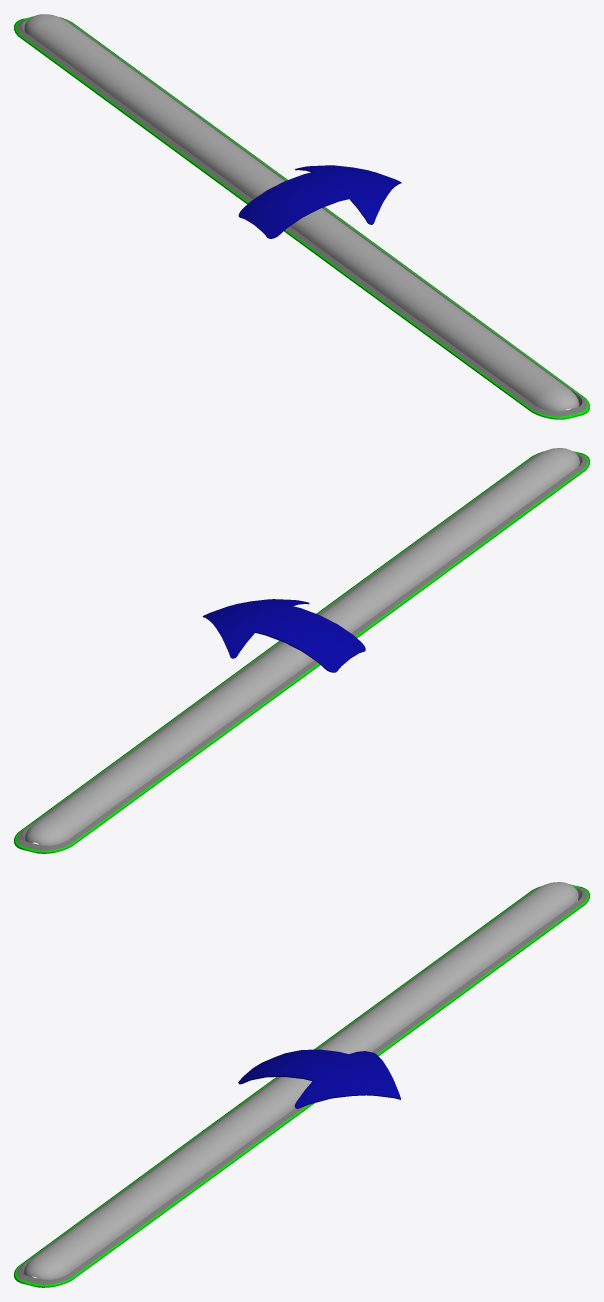
Rendered from SquareNavigation.fbx.
The picture shows the model from 3 angles, top to bottom: view 1: azimuth 30°, elevation 25°; view 2: azimuth 150°, elevation 25°; view 3: azimuth 330°, elevation 25°; orthographic projection.
Parts seen in each view (by area): view 1: SquareButton; view 2: SquareButton; view 3: SquareButton.
Part boxes in pixels (<box>): SquareButton: <box>14,14,589,419</box>; SquareButton: <box>14,448,589,853</box>; SquareButton: <box>14,882,589,1287</box>.
Bounding box in the file's own units: 1.42 × 0.297 × 9.
